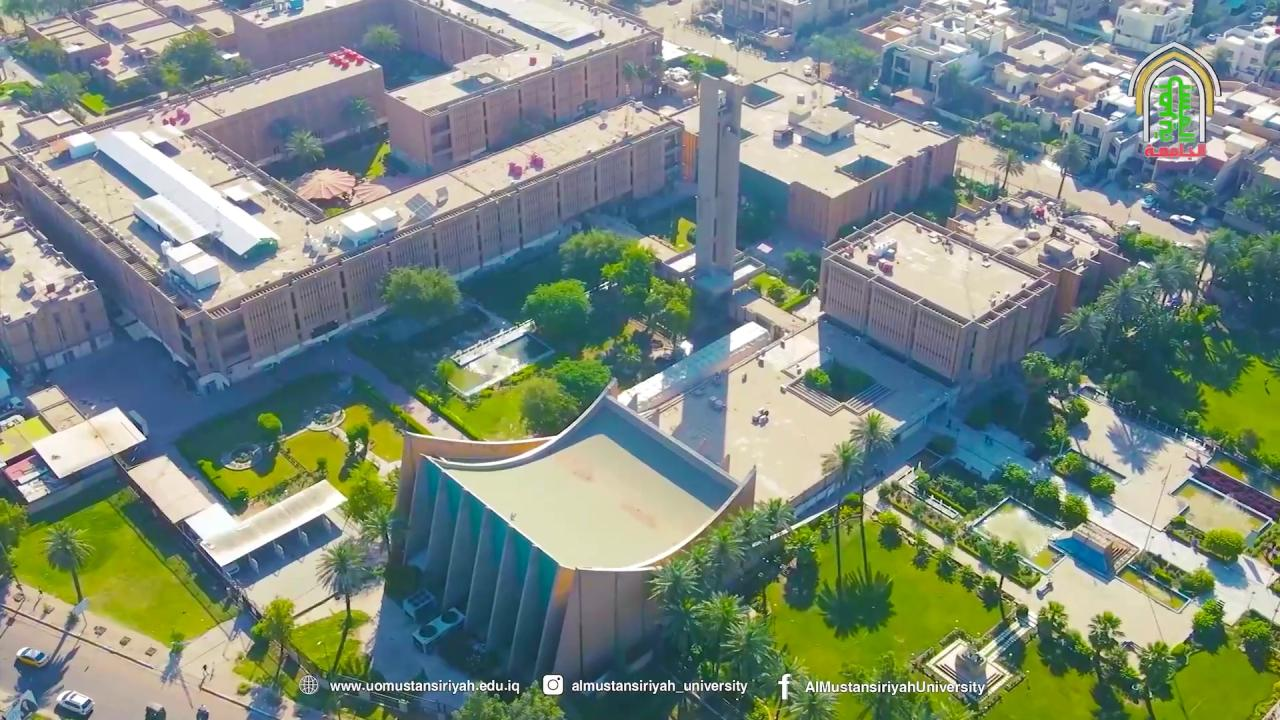car: (54, 690, 95, 719), (307, 403, 345, 433), (15, 647, 49, 667), (144, 703, 166, 719), (1141, 193, 1159, 211)
fountain: (443, 317, 554, 402), (970, 501, 1056, 565)
person: (32, 588, 44, 612), (196, 704, 209, 719), (1190, 534, 1198, 554)
tree: (644, 494, 836, 718), (1054, 256, 1252, 434), (519, 226, 692, 379), (233, 596, 419, 719), (313, 537, 382, 678), (818, 439, 865, 590), (837, 650, 931, 719), (814, 562, 896, 640), (337, 459, 400, 556), (807, 28, 879, 95), (450, 678, 565, 719), (251, 595, 298, 695), (40, 520, 96, 603), (378, 262, 461, 318), (520, 276, 592, 338), (156, 25, 223, 89), (541, 356, 611, 412), (517, 376, 581, 437), (313, 537, 371, 601), (600, 241, 656, 305), (1019, 350, 1082, 397), (643, 276, 692, 336), (1048, 134, 1090, 200), (0, 496, 29, 590), (557, 225, 625, 265), (361, 22, 402, 87), (974, 534, 1020, 591), (508, 678, 566, 718), (1228, 179, 1279, 224), (848, 407, 895, 455), (38, 69, 90, 110), (928, 471, 977, 514), (819, 439, 864, 485), (337, 422, 371, 481), (282, 126, 324, 172), (752, 496, 796, 536), (1191, 598, 1226, 648), (1200, 527, 1247, 563), (340, 94, 372, 146), (1171, 179, 1214, 217), (990, 147, 1023, 196), (1087, 610, 1124, 653), (782, 247, 817, 291), (871, 510, 906, 551), (807, 32, 837, 79), (727, 28, 756, 76), (1252, 518, 1279, 569), (1237, 617, 1274, 653), (362, 139, 392, 183), (1036, 600, 1068, 641), (361, 21, 401, 53), (999, 458, 1031, 498), (1040, 415, 1069, 456), (1019, 350, 1056, 381), (1031, 478, 1060, 517), (0, 541, 23, 590), (1058, 492, 1088, 529), (622, 60, 652, 97), (1182, 566, 1216, 594), (344, 422, 369, 459), (1060, 395, 1088, 428), (106, 487, 136, 517), (256, 411, 282, 444), (648, 52, 668, 94), (1052, 450, 1083, 477), (1010, 564, 1041, 591), (912, 461, 934, 499), (683, 54, 706, 89), (1088, 472, 1116, 498), (802, 365, 831, 390), (389, 402, 410, 433), (980, 482, 1004, 507), (168, 628, 185, 656), (314, 456, 329, 479)
